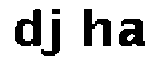a: (118, 13, 151, 52)
d: (10, 5, 44, 49)
h: (76, 5, 114, 51)
j: (41, 4, 65, 60)
